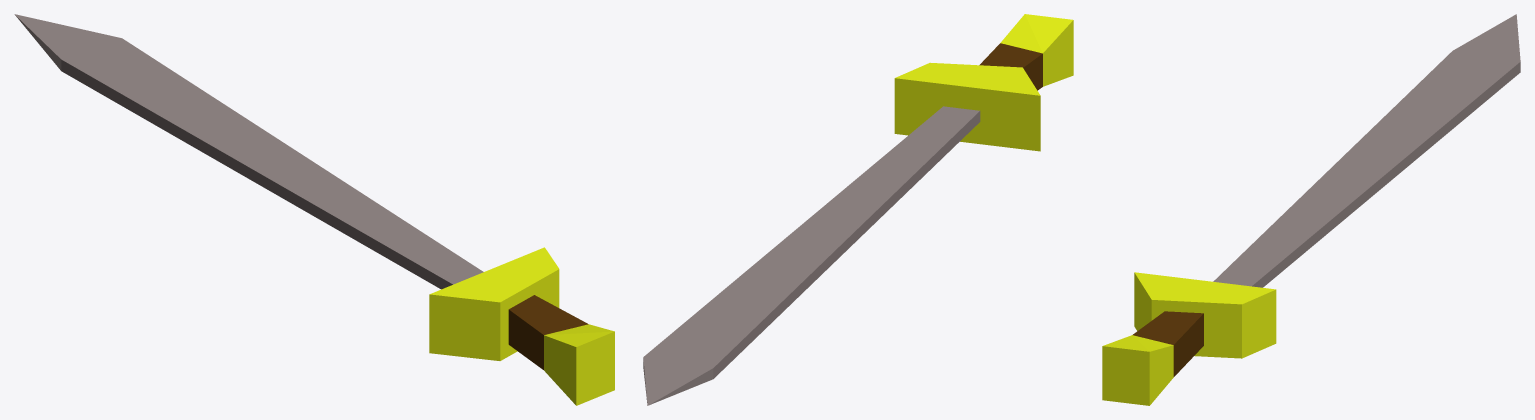
Rendered from inv_steel_sword.obj.
3 views of the same model, side by side, from view 1: azimuth 30°, elevation 25°; view 2: azimuth 150°, elevation 25°; view 3: azimuth 330°, elevation 25° (orthographic). The views are drawn at different scales.
Size of the model in its own units: 0.1016 by 0.0391 by 0.6094.
